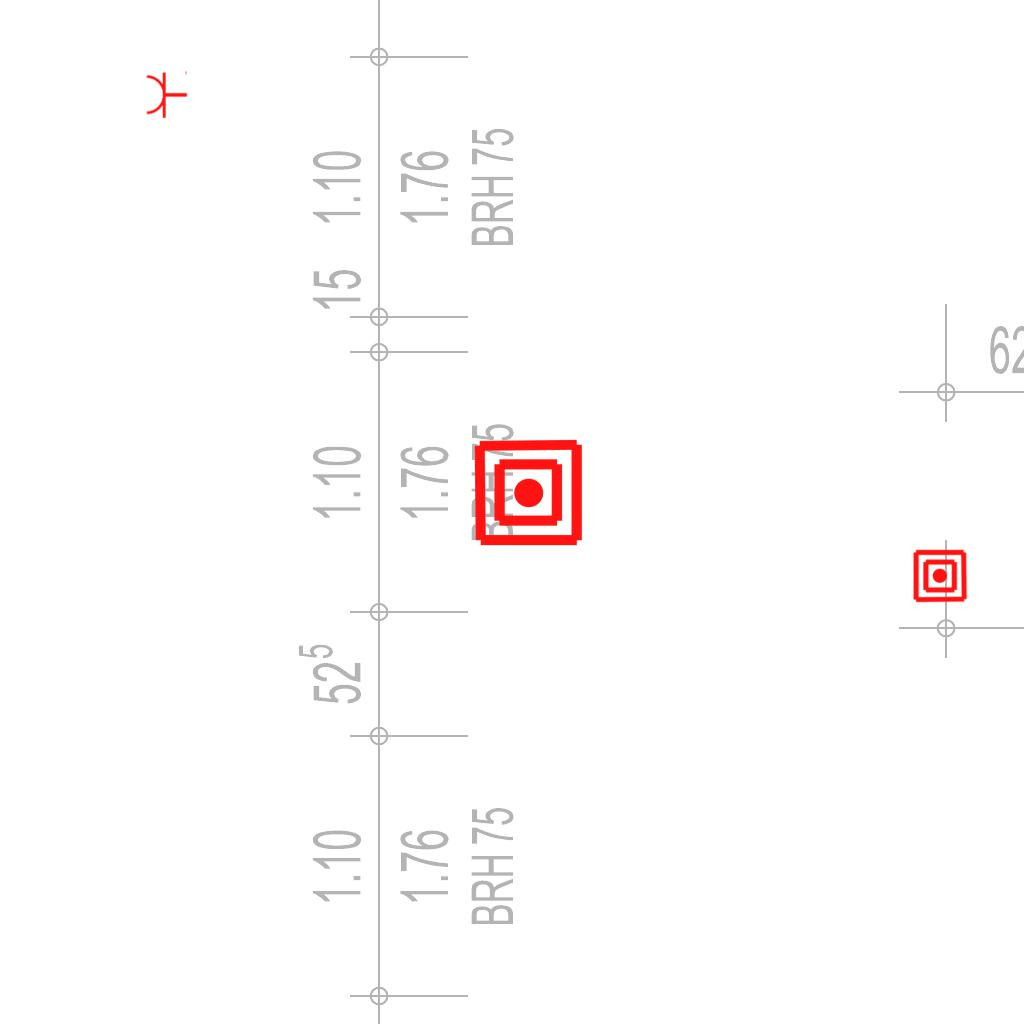NAM-Nichtautomatischer_Melder: (472, 436, 585, 549), (912, 548, 968, 604)
Schukosteckdose_einfach: (145, 69, 188, 119)
